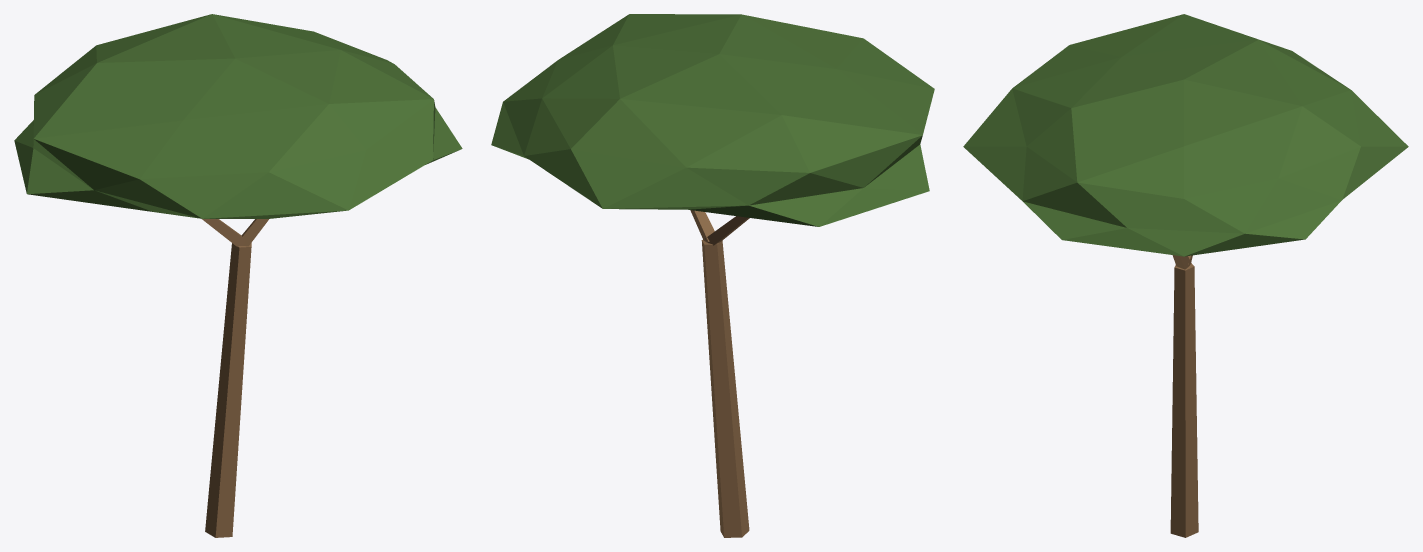
The model's file is pin_parasol.glb.
3 renders of one model, left to right at view 1: azimuth 30°, elevation 25°; view 2: azimuth 150°, elevation 25°; view 3: azimuth 270°, elevation 25°, orthographic. The views are drawn at different scales.
Visible parts, largest first — view 1: pin_parasol; view 2: pin_parasol; view 3: pin_parasol.
Part boxes in pixels (x1,y1,x2,y2): pin_parasol: (14, 14, 462, 537); pin_parasol: (491, 14, 934, 537); pin_parasol: (963, 14, 1408, 537).
Size of the model in its own units: 10.69 by 11.98 by 10.53.
Materials: 1 (1 with a texture image).
